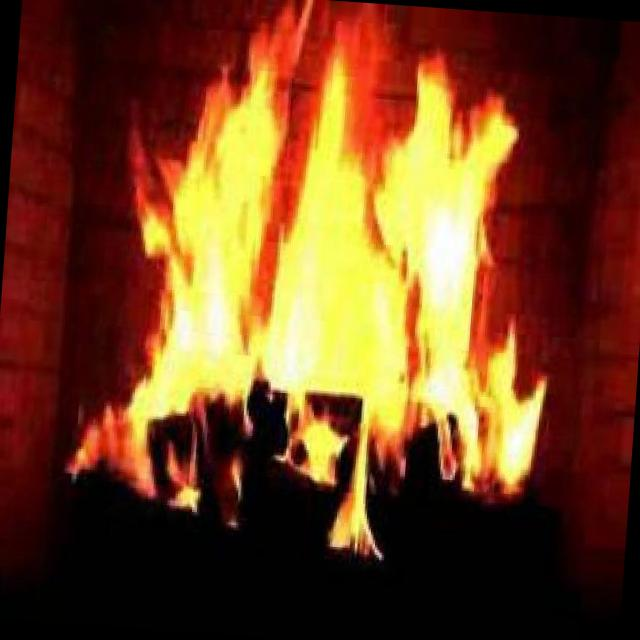Fire: (34, 0, 581, 585)
